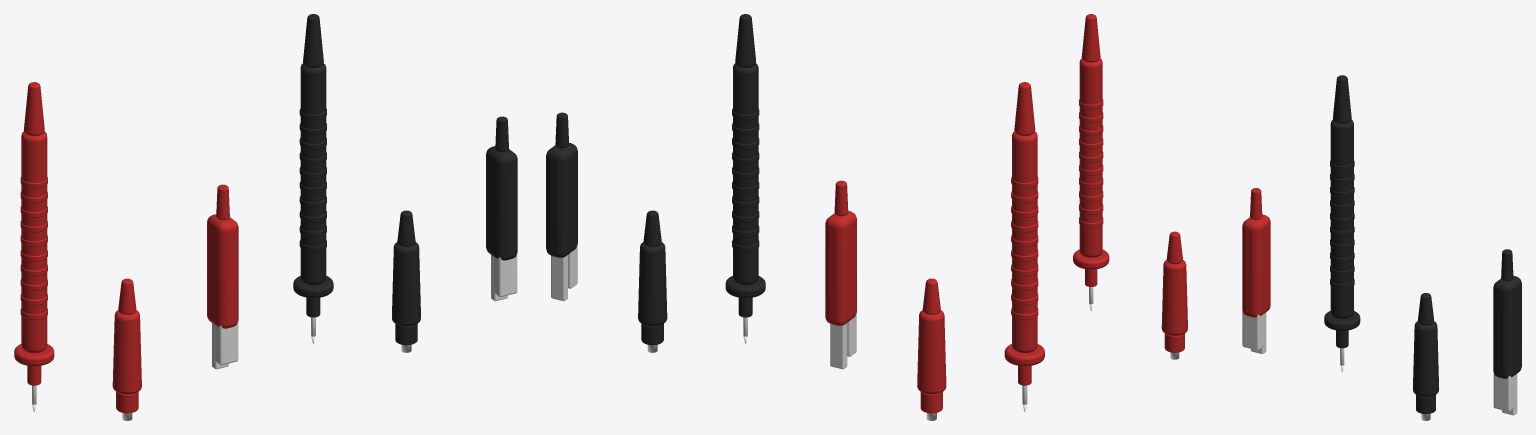
File: inst_leads.glb
3 views of the same model, side by side, from view 1: azimuth 30°, elevation 25°; view 2: azimuth 150°, elevation 25°; view 3: azimuth 330°, elevation 25° (orthographic). The views are drawn at different scales.
Parts seen in each view (by area): view 1: probe_red_mesh, probe_black_mesh, croc_red_mesh, croc_black_mesh, plug_red_mesh, plug_black_mesh; view 2: probe_red_mesh, probe_black_mesh, croc_red_mesh, croc_black_mesh, plug_black_mesh, plug_red_mesh; view 3: probe_black_mesh, probe_red_mesh, croc_red_mesh, croc_black_mesh, plug_red_mesh, plug_black_mesh.
Part boxes in pixels (<box>): probe_red_mesh: <box>14,82,54,412</box>; probe_black_mesh: <box>293,14,333,344</box>; croc_red_mesh: <box>207,184,238,369</box>; croc_black_mesh: <box>486,116,517,301</box>; plug_red_mesh: <box>112,278,141,420</box>; plug_black_mesh: <box>392,210,420,352</box>; probe_red_mesh: <box>1004,82,1044,411</box>; probe_black_mesh: <box>725,14,765,344</box>; croc_red_mesh: <box>825,180,856,369</box>; croc_black_mesh: <box>546,112,577,301</box>; plug_black_mesh: <box>638,210,667,352</box>; plug_red_mesh: <box>917,278,946,420</box>; probe_black_mesh: <box>1324,75,1360,372</box>; probe_red_mesh: <box>1073,14,1109,310</box>; croc_red_mesh: <box>1242,188,1270,353</box>; croc_black_mesh: <box>1493,249,1521,415</box>; plug_red_mesh: <box>1161,231,1187,359</box>; plug_black_mesh: <box>1413,293,1438,420</box>.
Bounding box in the file's own units: 0.212 × 0.147 × 0.0155.
